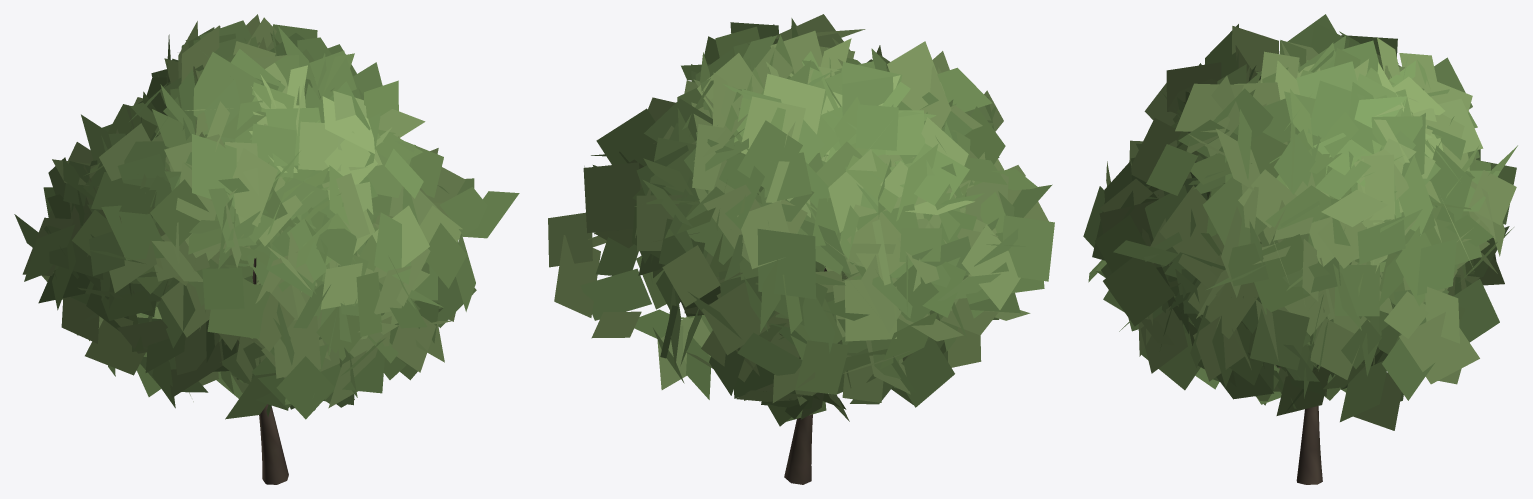
The model's file is linden_1.glb.
The picture shows the model from 3 angles, left to right: view 1: azimuth 30°, elevation 25°; view 2: azimuth 150°, elevation 25°; view 3: azimuth 270°, elevation 25°; orthographic projection. The views are drawn at different scales.
Parts seen in each view (by area): view 1: linden_1; view 2: linden_1; view 3: linden_1.
Part boxes in pixels (x1,y1,x2,y2): linden_1: (14,14,519,484); linden_1: (548,14,1054,484); linden_1: (1083,14,1517,484).
Size of the model in its own units: 1 by 1 by 0.9101.
